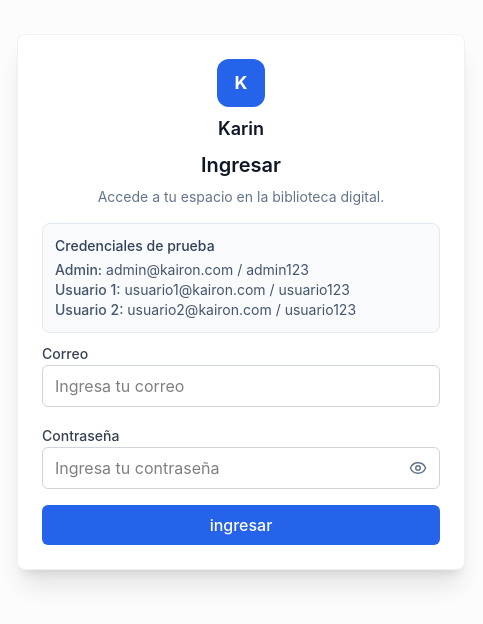
Test: LoginPage › muestra error cuando las credenciales son incorrectas
Type "admin@kairon.com" into the field labelled "Correo".
click(241, 386); type("admin@kairon.com")  # box [42,365,440,407]
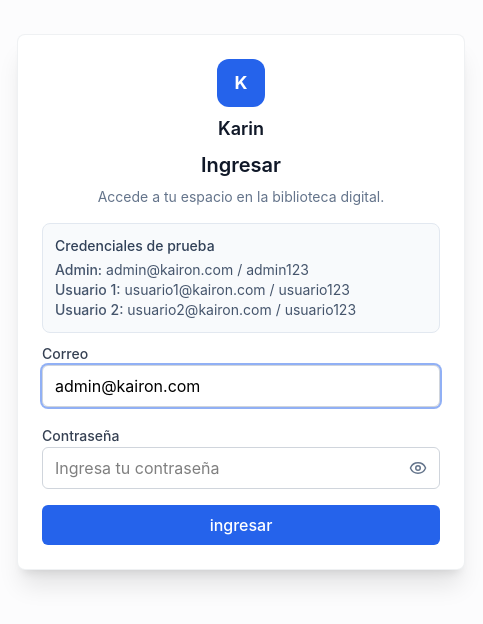
Type "fallida" into the password field labelled "Contraseña".
click(241, 468); type("fallida")  # box [42,447,440,489]
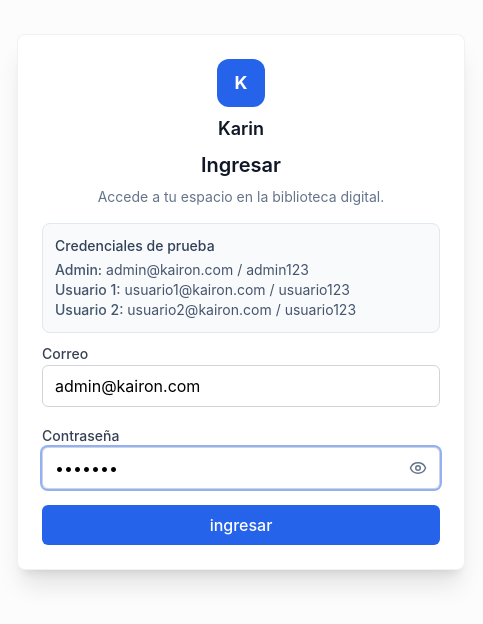
Click the button "ingresar".
click(241, 525)  # box [42,505,440,545]
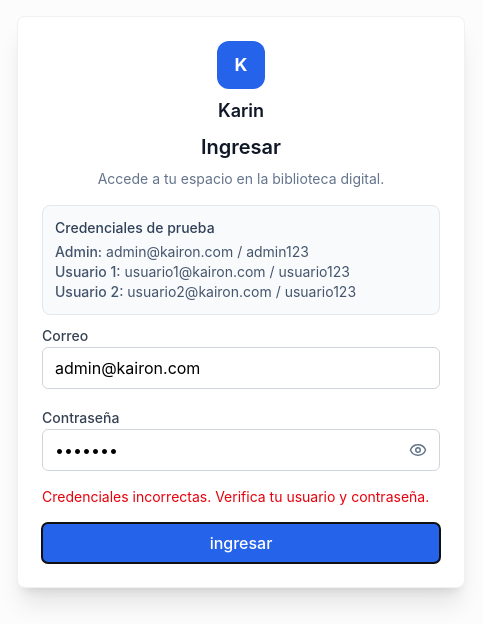
Expected: the message reads "Credenciales incorrectas. Verifica tu usuario y contraseña.", [42,488,429,505]
